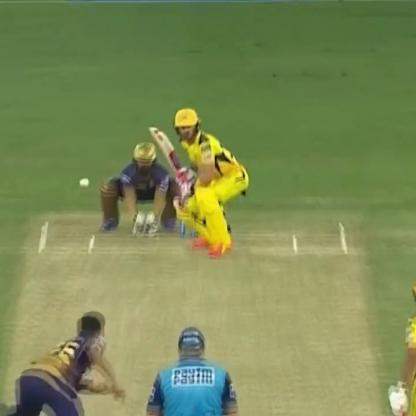ball: (77, 175, 91, 190)
bat: (140, 112, 194, 197)
pitch: (4, 210, 413, 416)
